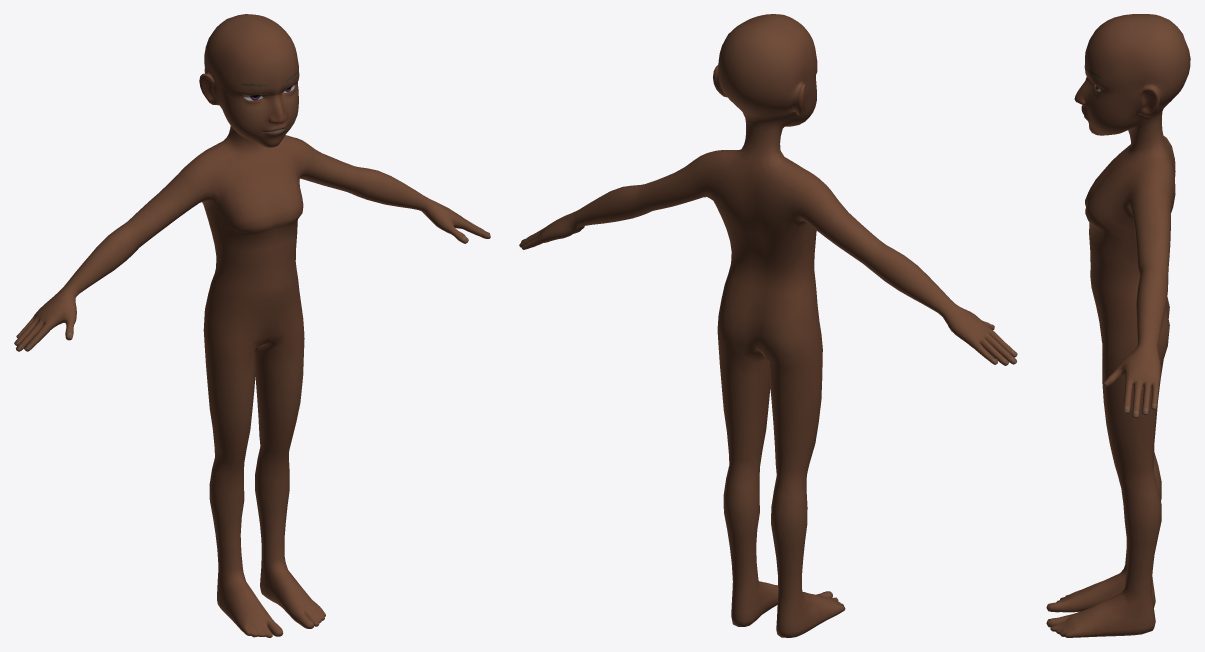
File: frame_0003.glb
3 views of the same model, side by side, from view 1: azimuth 30°, elevation 25°; view 2: azimuth 150°, elevation 25°; view 3: azimuth 270°, elevation 25° (orthographic). The views are drawn at different scales.
Visible parts, largest first — view 1: frame_0003_head_geo; view 2: frame_0003_head_geo; view 3: frame_0003_head_geo.
Part boxes in pixels (x1,y1,x2,y2): frame_0003_head_geo: [14, 14, 490, 637]; frame_0003_head_geo: [519, 14, 1017, 637]; frame_0003_head_geo: [1046, 14, 1190, 637].
Size of the model in its own units: 1.28 by 1.5 by 0.3253.
Materials: 3 (3 with a texture image).
